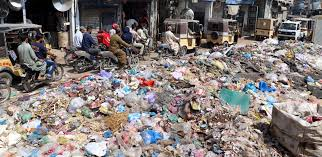garbage: (66, 75, 318, 157), (5, 98, 317, 157), (161, 57, 318, 157), (234, 46, 316, 157)
